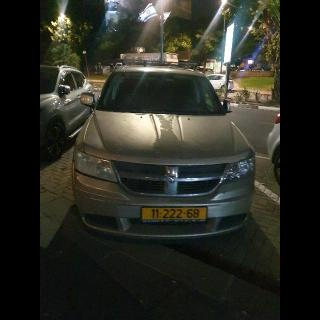LicensePlate: (143, 209, 206, 220)
